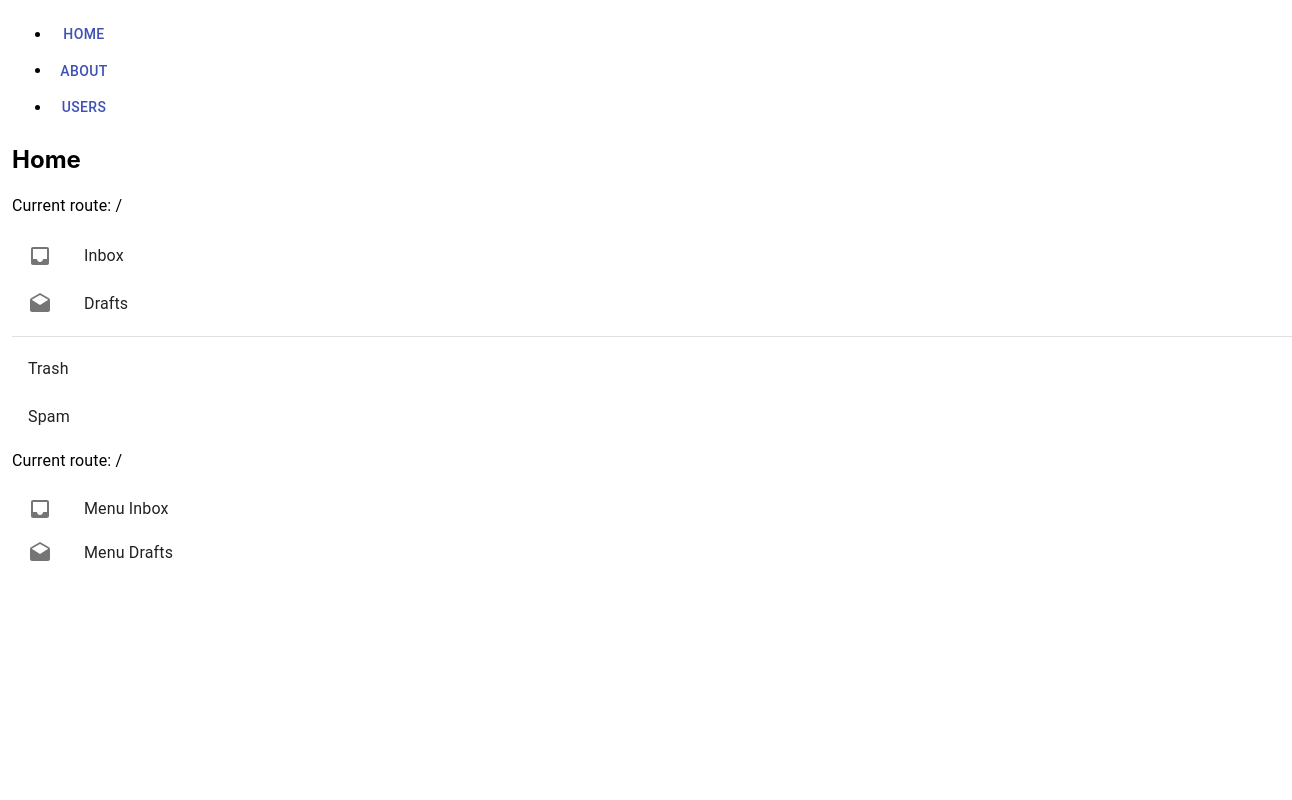
Test: My First Test › navigates to inbox
Click the button with test id "inbox-link".
click(104, 255)  # box 28,244 -> 124,268
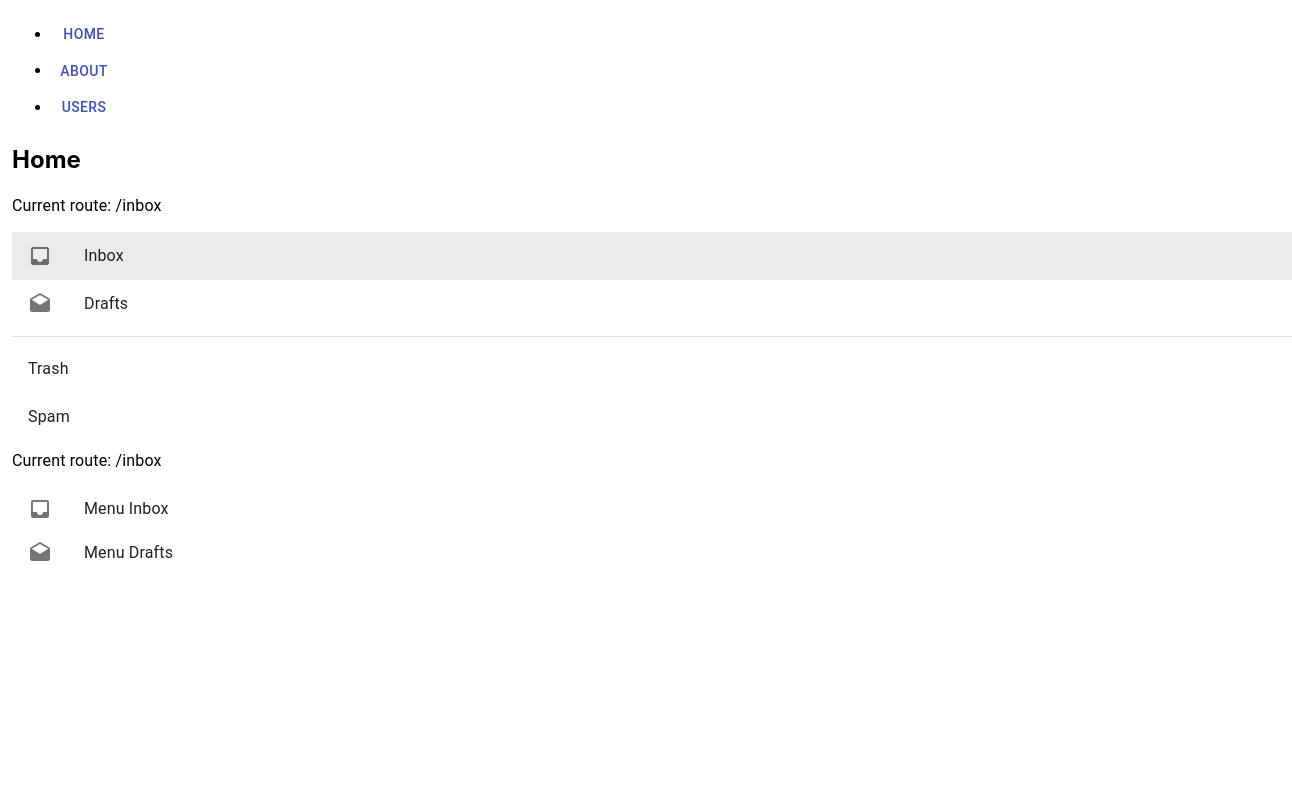
Result: the 1st text with test id "inbox" shows "inbox" at 115,196 -> 161,215
